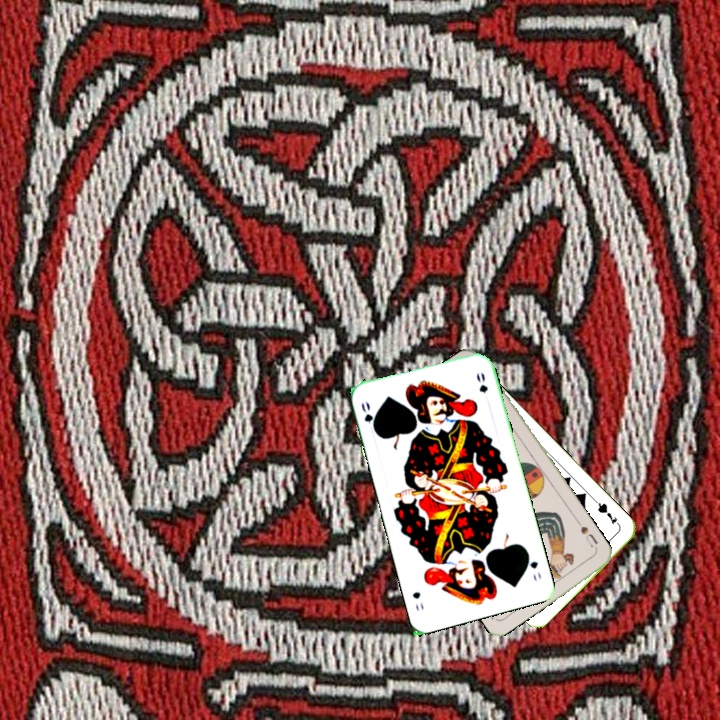G7: (591, 497, 623, 530)
GO: (357, 397, 379, 436), (522, 547, 544, 584)
SU: (576, 522, 600, 550)
